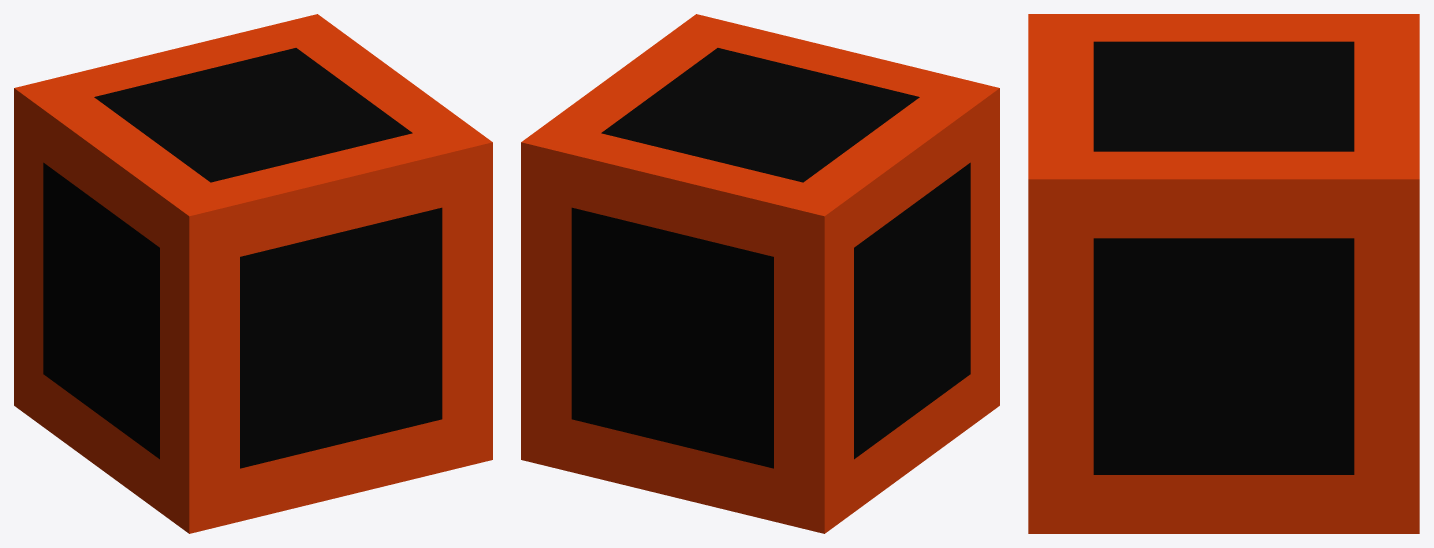
The model's file is block_test.fbx.
3 views of the same model, side by side, from view 1: azimuth 30°, elevation 25°; view 2: azimuth 150°, elevation 25°; view 3: azimuth 270°, elevation 25° (orthographic). The views are drawn at different scales.
Parts seen in each view (by area): view 1: Cube; view 2: Cube; view 3: Cube.
Part boxes in pixels (x1,y1,x2,y2): Cube: (14,14,492,533); Cube: (521,14,999,533); Cube: (1028,14,1419,533).
Bounding box in the file's own units: 400 × 400 × 400.
